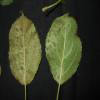Apple Scab Leaf: (45, 10, 83, 88), (7, 10, 44, 90)
